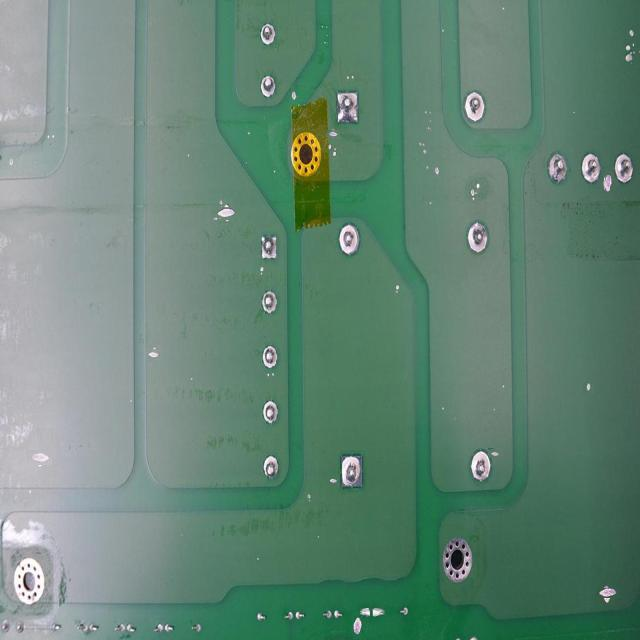spillover: (622, 26, 635, 68), (215, 203, 237, 223), (30, 447, 50, 468), (598, 585, 616, 602), (353, 615, 363, 639), (470, 180, 481, 201), (148, 346, 161, 361), (326, 474, 339, 488), (582, 380, 594, 394), (259, 261, 267, 282), (489, 447, 502, 459), (604, 171, 610, 194), (292, 85, 300, 101), (304, 489, 312, 505), (433, 164, 443, 176), (328, 128, 338, 139), (394, 282, 400, 296)
